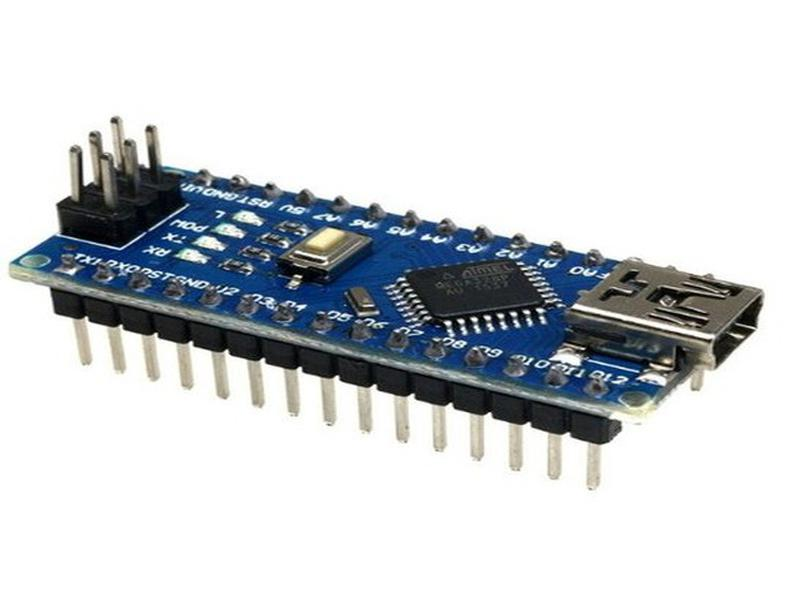Arduino_Nano: (8, 119, 767, 495)
